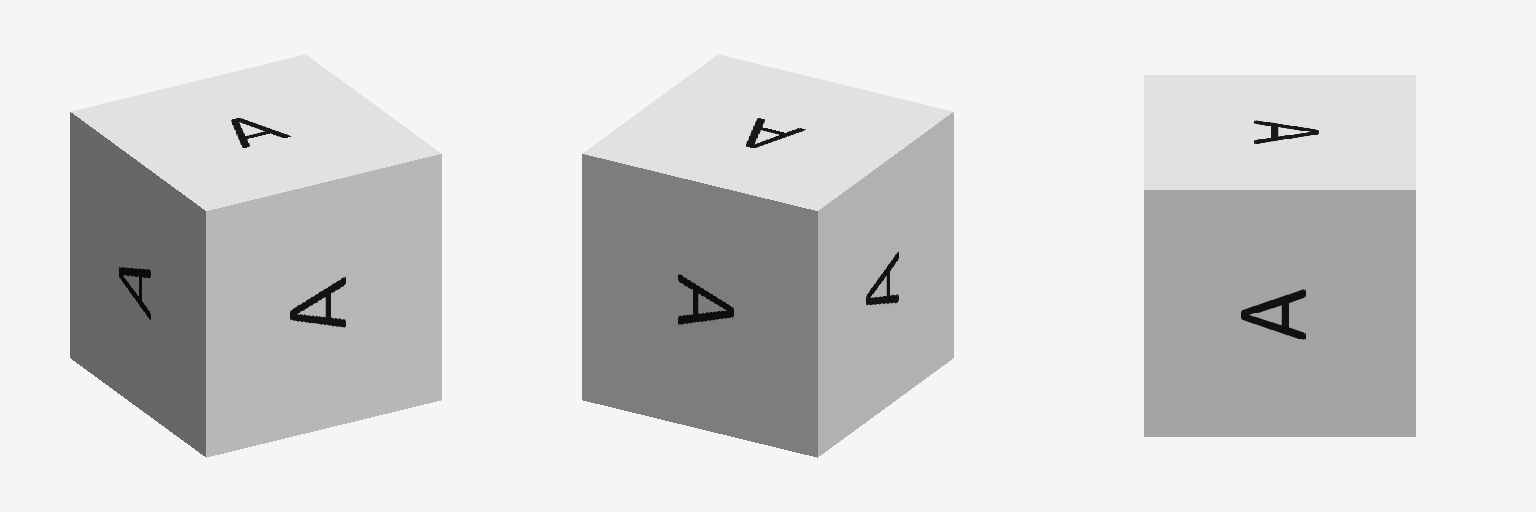
3 views of the same model, side by side, from view 1: azimuth 30°, elevation 25°; view 2: azimuth 150°, elevation 25°; view 3: azimuth 270°, elevation 25° (orthographic).
Visible parts, largest first — view 1: Cube; view 2: Cube; view 3: Cube.
Boxes of the visible parts, x1,y1,x2,y2 form: Cube: [70, 54, 441, 457]; Cube: [582, 54, 953, 457]; Cube: [1144, 75, 1415, 436].
Size of the model in its own units: 2 by 2 by 2.
Materials: 1 (1 with a texture image).